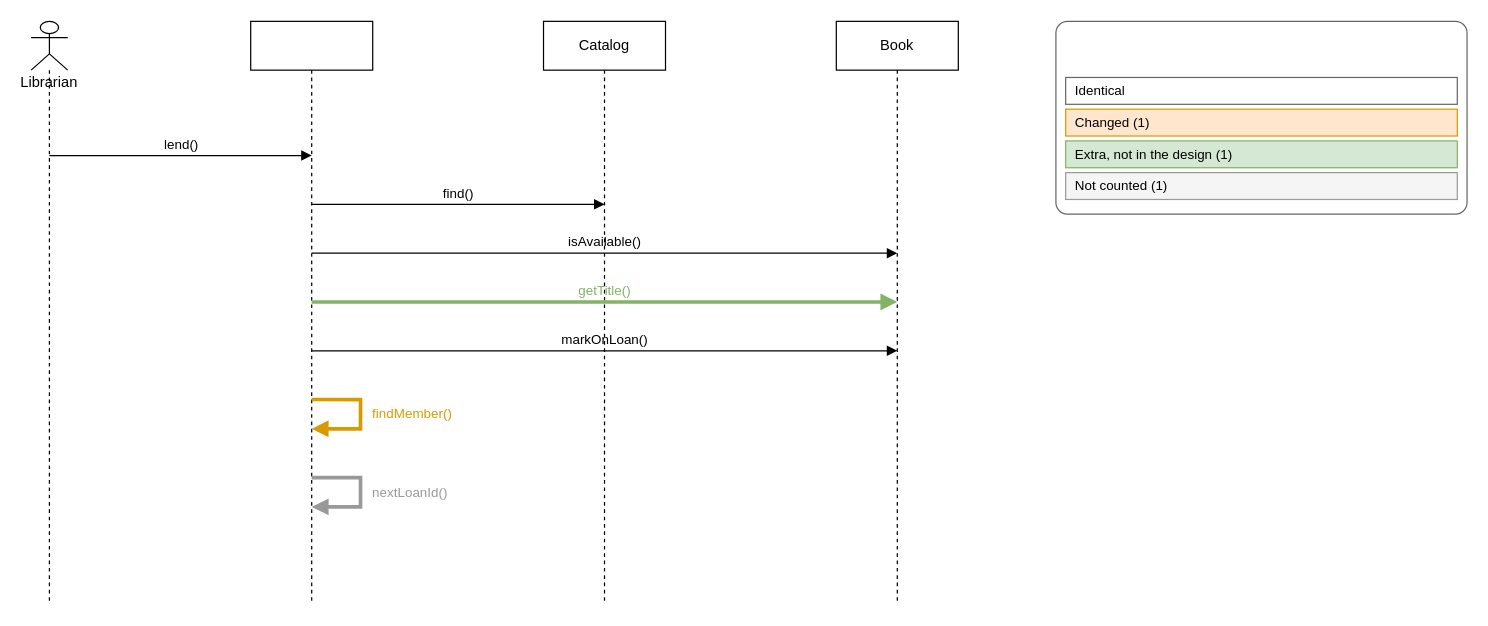
Some shapes in this 1488 by 626 pixel diagram are drawn without their labels. The box of each missing label's shape, as (x1, y1, x2, y2) in pixels:
IMPLEMENTED SCENARIO built by AI · recorded from impl/scenarios/lend_book.cpp: (1055, 20, 1467, 214)
Library: (249, 20, 373, 605)
